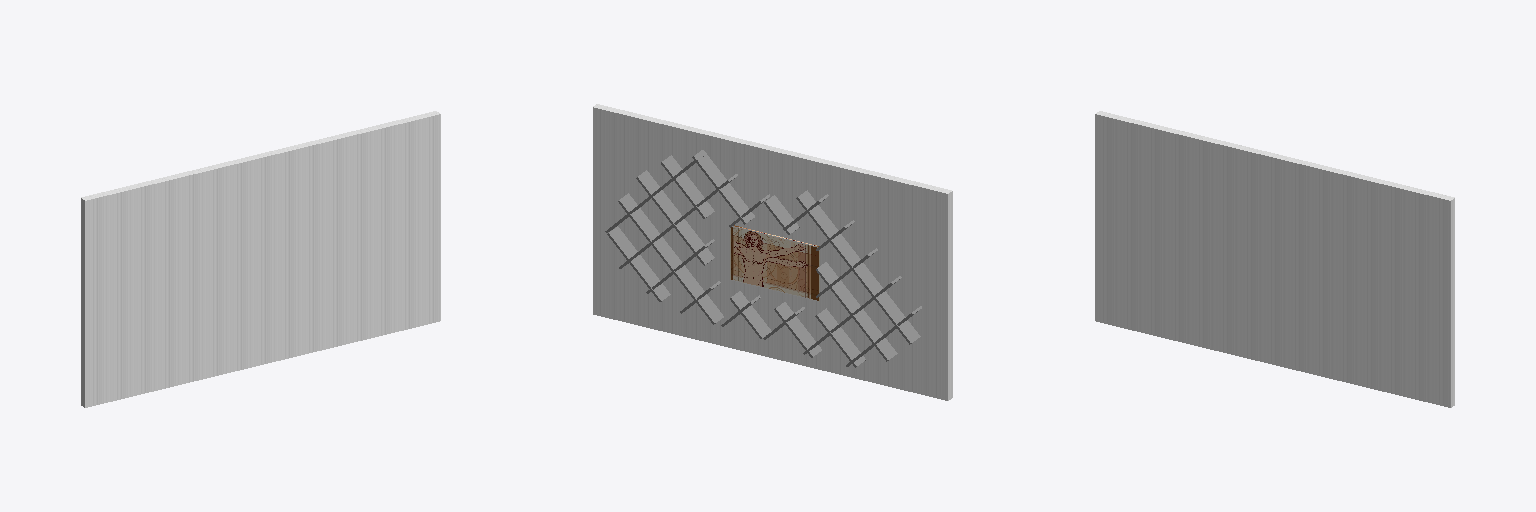
The picture shows the model from 3 angles: view 1: azimuth 30°, elevation 25°; view 2: azimuth 150°, elevation 25°; view 3: azimuth 330°, elevation 25°; orthographic projection.
Visible parts, largest first — view 1: Box16496; view 2: Box16496, Box16495, Box17133; view 3: Box16496.
Part boxes in pixels (x1,y1,x2,y2): Box16496: (81, 111, 440, 407); Box16496: (593, 104, 952, 400); Box16495: (605, 150, 921, 367); Box17133: (730, 225, 819, 301); Box16496: (1095, 111, 1454, 407).
Size of the model in its own units: 485 by 270 by 33.23.
3 materials, 2 textured.